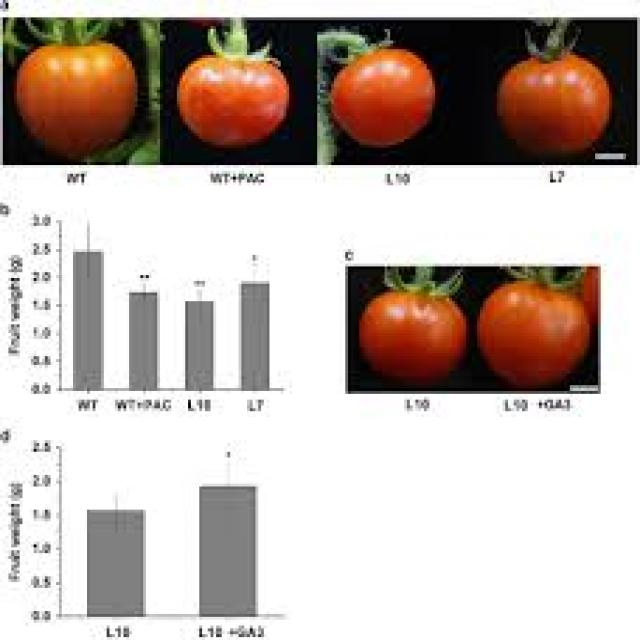Organik: (176, 14, 302, 151), (14, 19, 138, 144), (482, 272, 600, 385), (321, 27, 430, 142), (501, 45, 621, 147), (367, 269, 469, 375)
